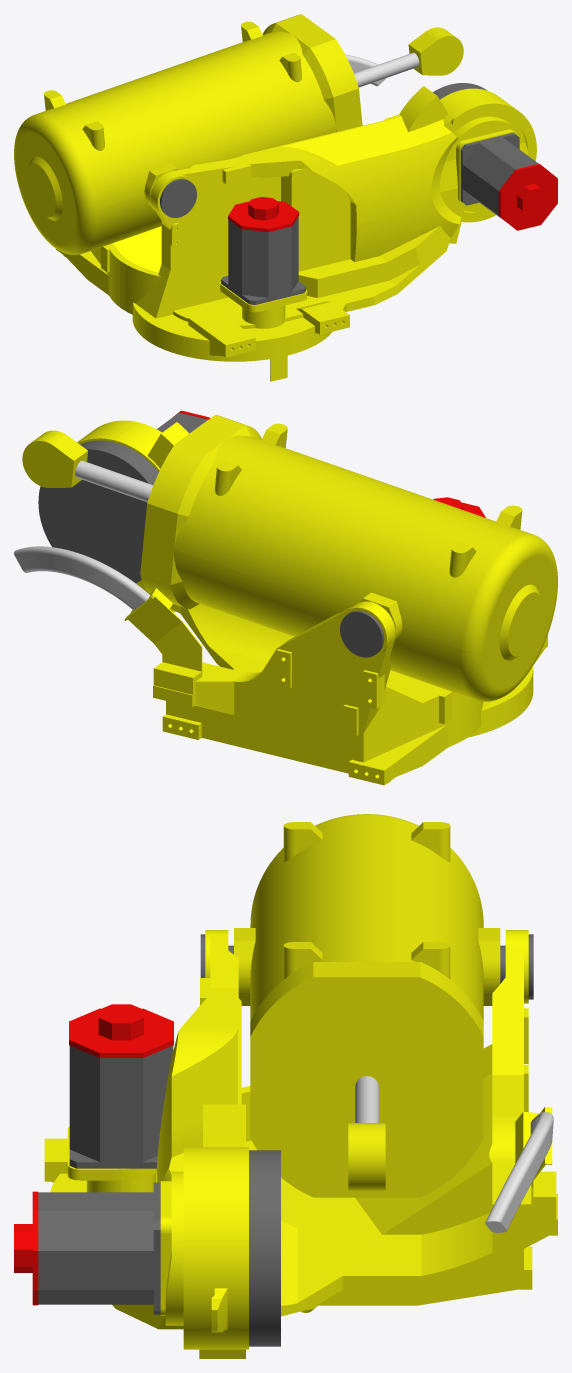
3 views of the same model, one above another, from view 1: azimuth 30°, elevation 25°; view 2: azimuth 150°, elevation 25°; view 3: azimuth 270°, elevation 25° (orthographic). The views are drawn at different scales.
Parts seen in each view (by area): view 1: Mesh_0; view 2: Mesh_0; view 3: Mesh_0.
Boxes of the visible parts, x1,y1,x2,y2 form: Mesh_0: (14, 14, 557, 381); Mesh_0: (14, 410, 557, 785); Mesh_0: (14, 814, 557, 1358).
Bounding box in the file's own units: 1.36 × 0.9004 × 0.7317.
